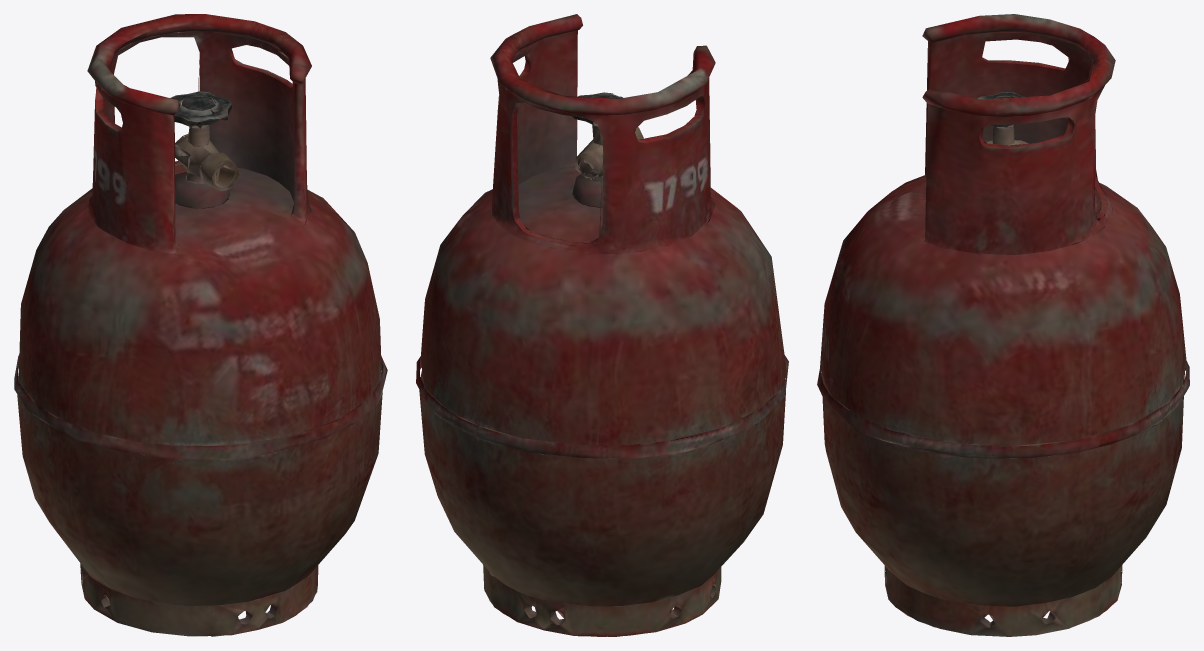
Rendered from small_lpg_tank.glb.
The picture shows the model from 3 angles, left to right: view 1: azimuth 30°, elevation 25°; view 2: azimuth 150°, elevation 25°; view 3: azimuth 270°, elevation 25°; orthographic projection.
Visible parts, largest first — view 1: small_lpg_tank; view 2: small_lpg_tank; view 3: small_lpg_tank.
Part boxes in pixels (x1=…): small_lpg_tank: x1=14, y1=14, x2=387, y2=636; small_lpg_tank: x1=416, y1=14, x2=788, y2=636; small_lpg_tank: x1=817, y1=14, x2=1189, y2=636.
Bounding box in the file's own units: 0.4101 × 0.6433 × 0.4101.
Materials: 1 (1 with a texture image).
